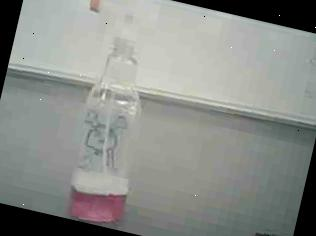hazard: (31, 0, 189, 234)
